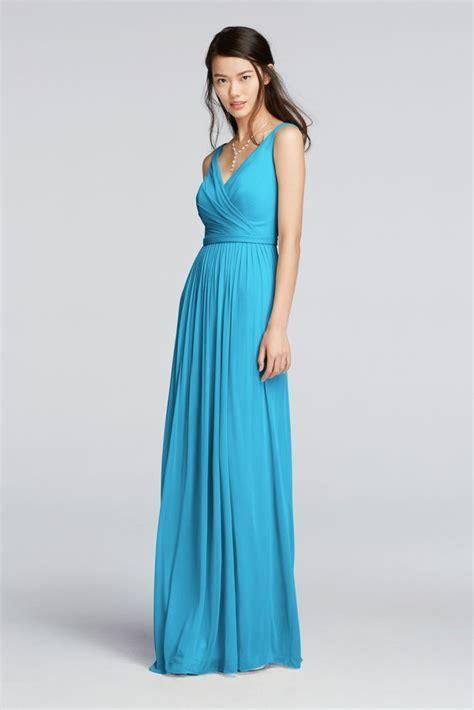dress: (152, 123, 302, 675)
